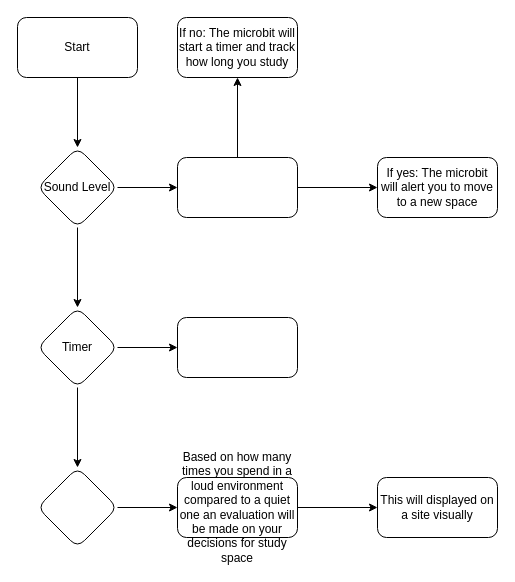
Image size: 515x582. Some labels were removed from this diagram. The centre of each missing label's shape, as x and y in pixels:
Check if environment is too loud: pixel 237 187
Evaluation: pixel 77 507
Time spent studying will be tracked and logged in a firebase: pixel 237 347
